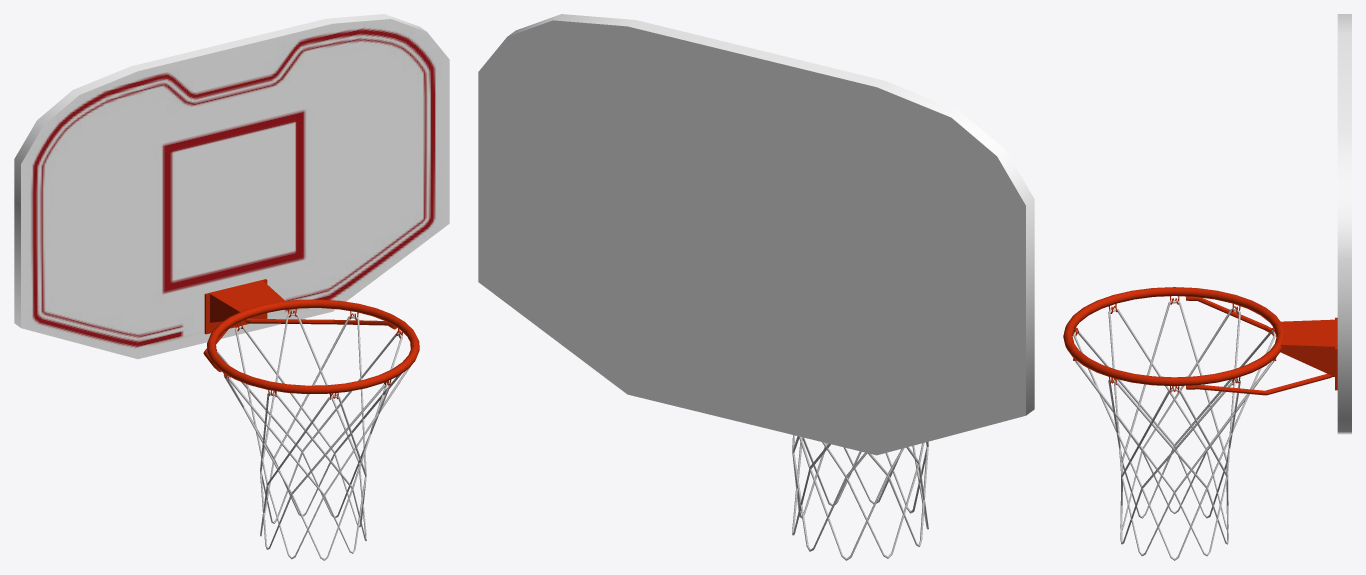
The model's file is basketball_net_and_board.obj.
The picture shows the model from 3 angles, left to right: view 1: azimuth 30°, elevation 25°; view 2: azimuth 150°, elevation 25°; view 3: azimuth 270°, elevation 25°; orthographic projection. The views are drawn at different scales.
Visible parts, largest first — view 1: Cube, Circle.001, BezierCircle_Mesh, Cube.001; view 2: Cube, Circle.001; view 3: Circle.001, Cube, BezierCircle_Mesh, Cube.001.
Part boxes in pixels (box(x1,y1,x2,y2)): Cube: box(14, 14, 449, 359); Circle.001: box(216, 313, 411, 560); BezierCircle_Mesh: box(207, 299, 419, 393); Cube.001: box(203, 279, 396, 371); Cube: box(478, 14, 1034, 455); Circle.001: box(792, 435, 928, 560); Circle.001: box(1073, 301, 1275, 560); Cube: box(1337, 14, 1351, 434); BezierCircle_Mesh: box(1063, 287, 1283, 386); Cube.001: box(1186, 296, 1337, 395).
Bounding box in the file's own units: 109 × 106 × 60.86.
4 materials, 2 textured.
